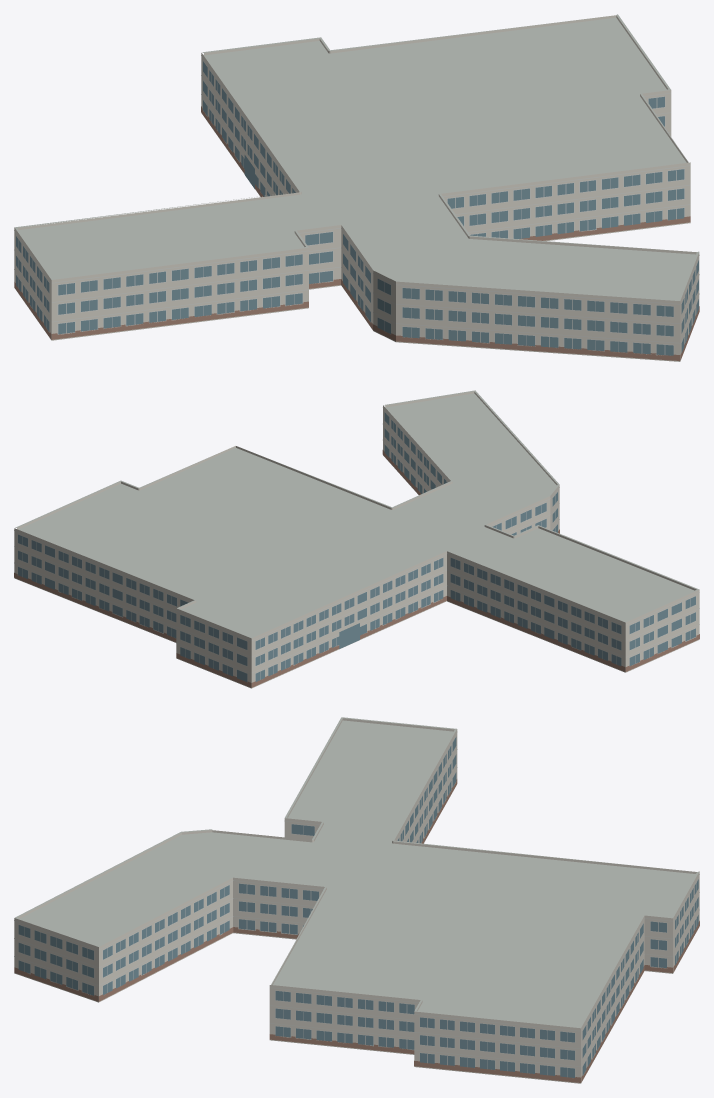
The model's file is public-881ccf3c-ba7c-45fd-ab4d-a82c6290ed24.glb.
3 renders of one model, top to bottom at view 1: azimuth 30°, elevation 25°; view 2: azimuth 150°, elevation 25°; view 3: azimuth 270°, elevation 25°, orthographic. The views are drawn at different scales.
Visible parts, largest first — view 1: public-881ccf3c-ba7c-45fd-ab4d-a82c6290ed24; view 2: public-881ccf3c-ba7c-45fd-ab4d-a82c6290ed24; view 3: public-881ccf3c-ba7c-45fd-ab4d-a82c6290ed24.
Part boxes in pixels (box(x1,y1,x2,y2)): public-881ccf3c-ba7c-45fd-ab4d-a82c6290ed24: box(14, 14, 699, 361); public-881ccf3c-ba7c-45fd-ab4d-a82c6290ed24: box(14, 390, 699, 688); public-881ccf3c-ba7c-45fd-ab4d-a82c6290ed24: box(14, 717, 699, 1083).
Size of the model in its own units: 110 by 9.15 by 102.
